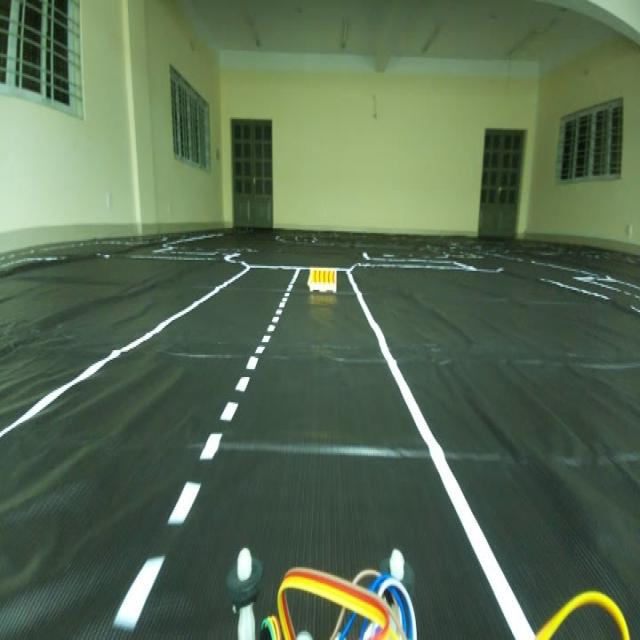roadblock: (303, 257, 345, 302)
